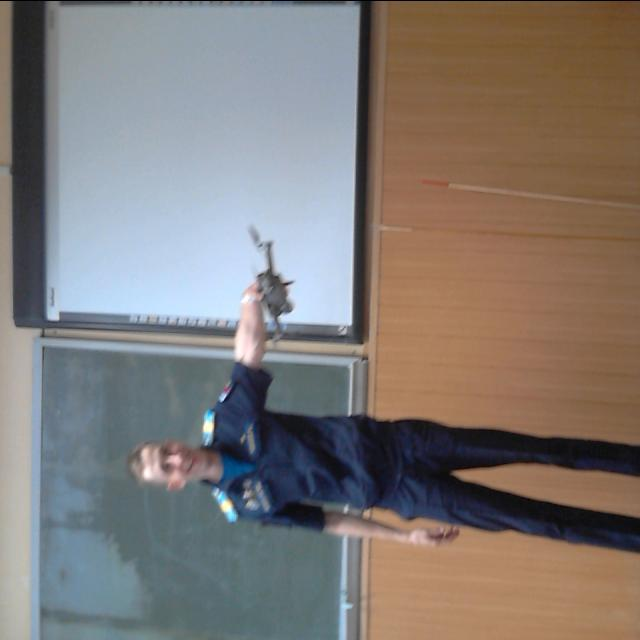drone: (220, 213, 302, 347)
